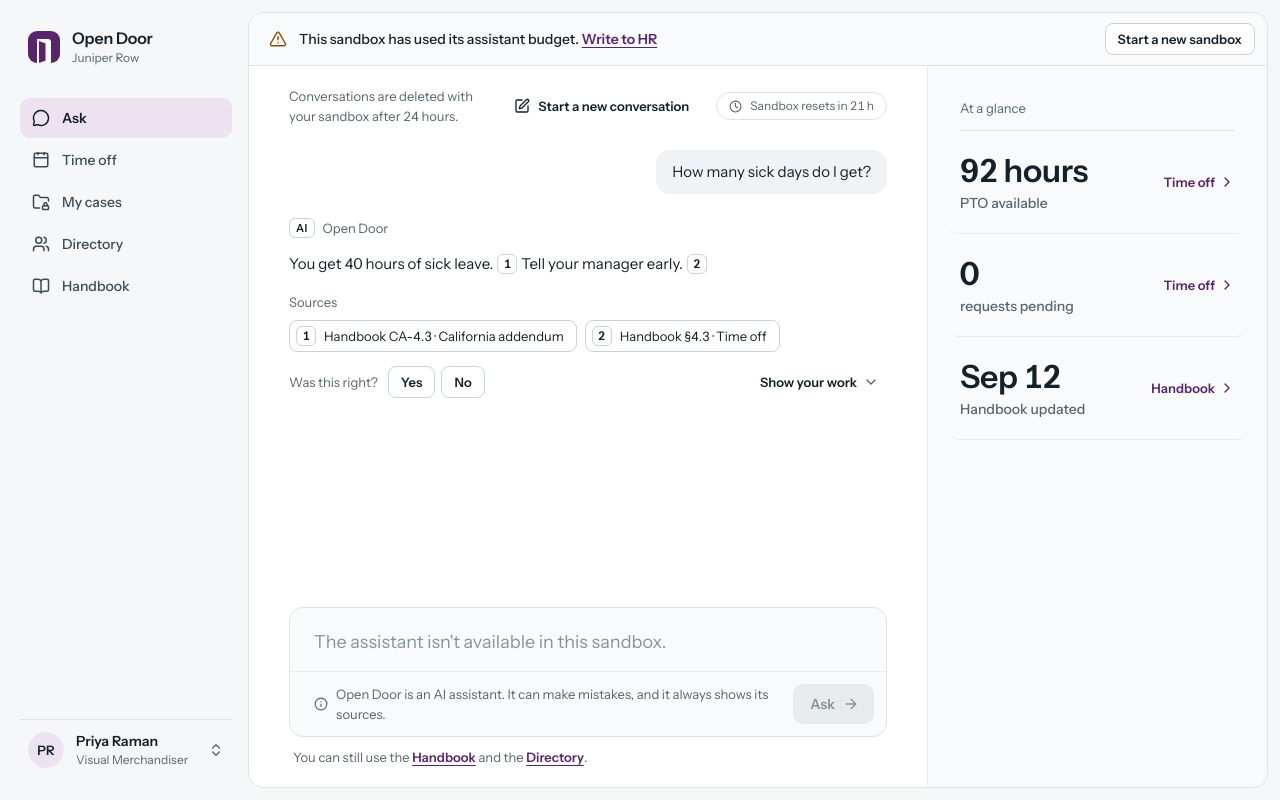
Test case: the budget › starts a new sandbox as the same persona, from the banner
Click the button "Start a new sandbox": click(1180, 39) x1=1105 y1=23 x2=1255 y2=55
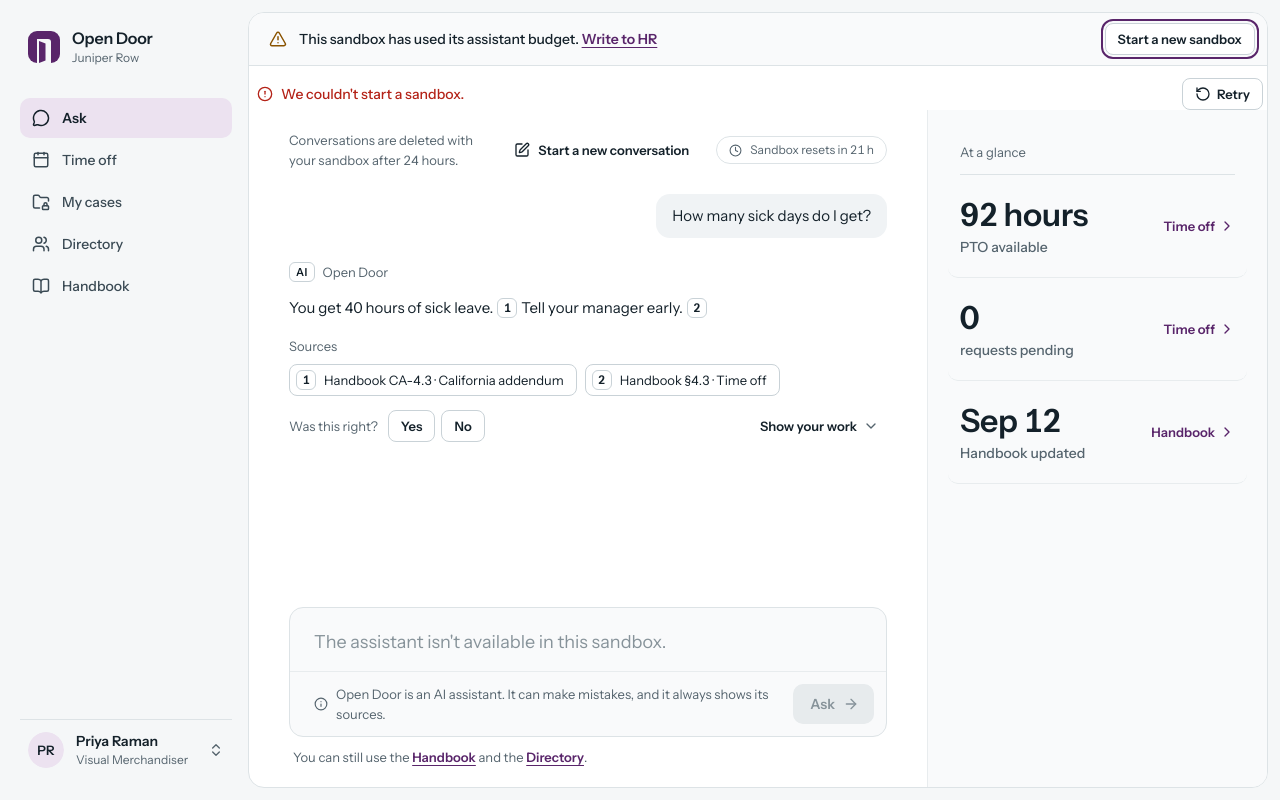
Result: the text "We couldn't start a sandbox." is shown at x1=257 y1=85 x2=464 y2=103
